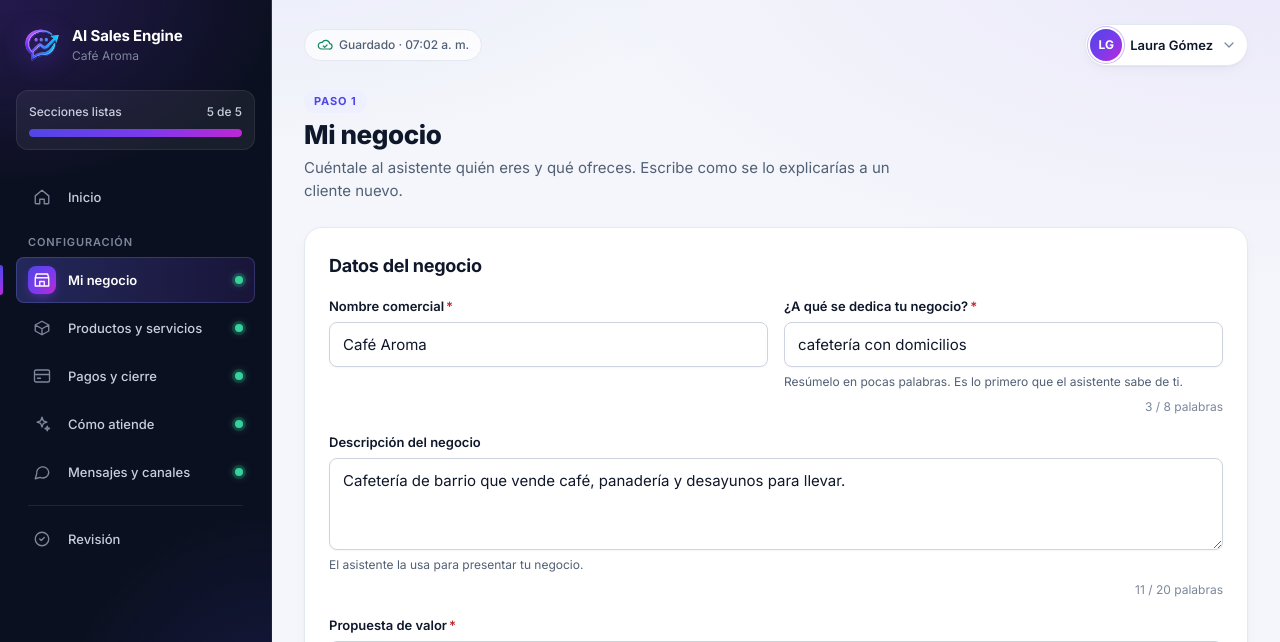
Test: Guardado y carga de la configuración › guarda los cambios en la cuenta activa y solo entonces indica «Guardado»
Check: the heading "Mi negocio" is shown, box [304,119,910,150]
Replace the text in the field labelled "Nombre comercial*" with "Guardado en la cuenta": (548, 344) [329,322,768,367]
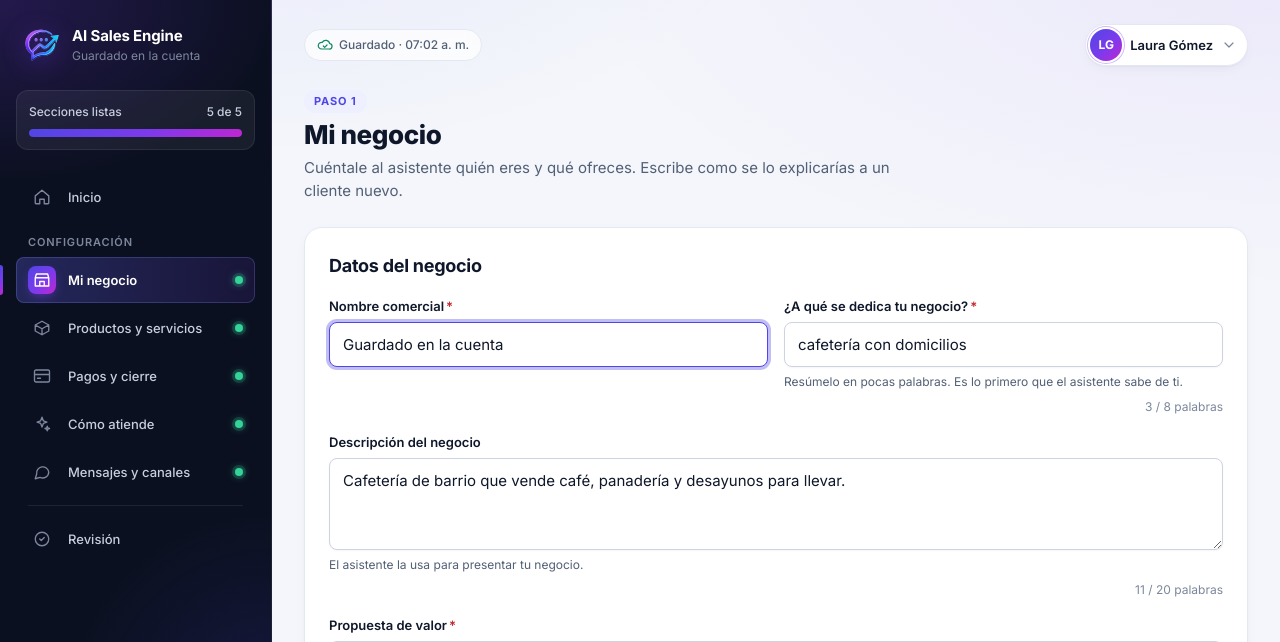
Check: the text "Guardado · 07:02 a. m." is shown, box [317,36,469,54]
Check: the text "Guardado en la cuenta" is shown, box [72,47,200,66]
